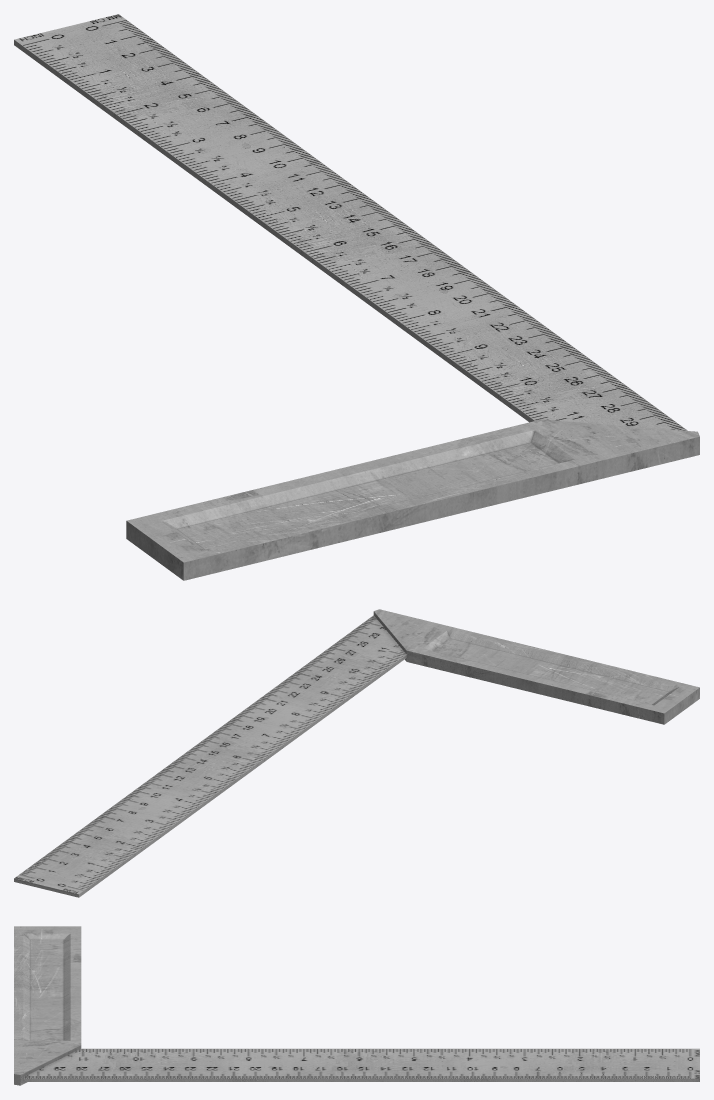
File: Ruler02_1.FBX
The picture shows the model from 3 angles, top to bottom: view 1: azimuth 30°, elevation 25°; view 2: azimuth 150°, elevation 25°; view 3: azimuth 270°, elevation 25°; orthographic projection. The views are drawn at different scales.
Visible parts, largest first — view 1: Ruler02_1; view 2: Ruler02_1; view 3: Ruler02_1.
Part boxes in pixels (left/top/right/bottom): Ruler02_1: left=14, top=14, right=699, bottom=580; Ruler02_1: left=14, top=609, right=699, bottom=897; Ruler02_1: left=14, top=926, right=699, bottom=1085.
Size of the model in its own units: 16.66 by 0.5594 by 32.47.
